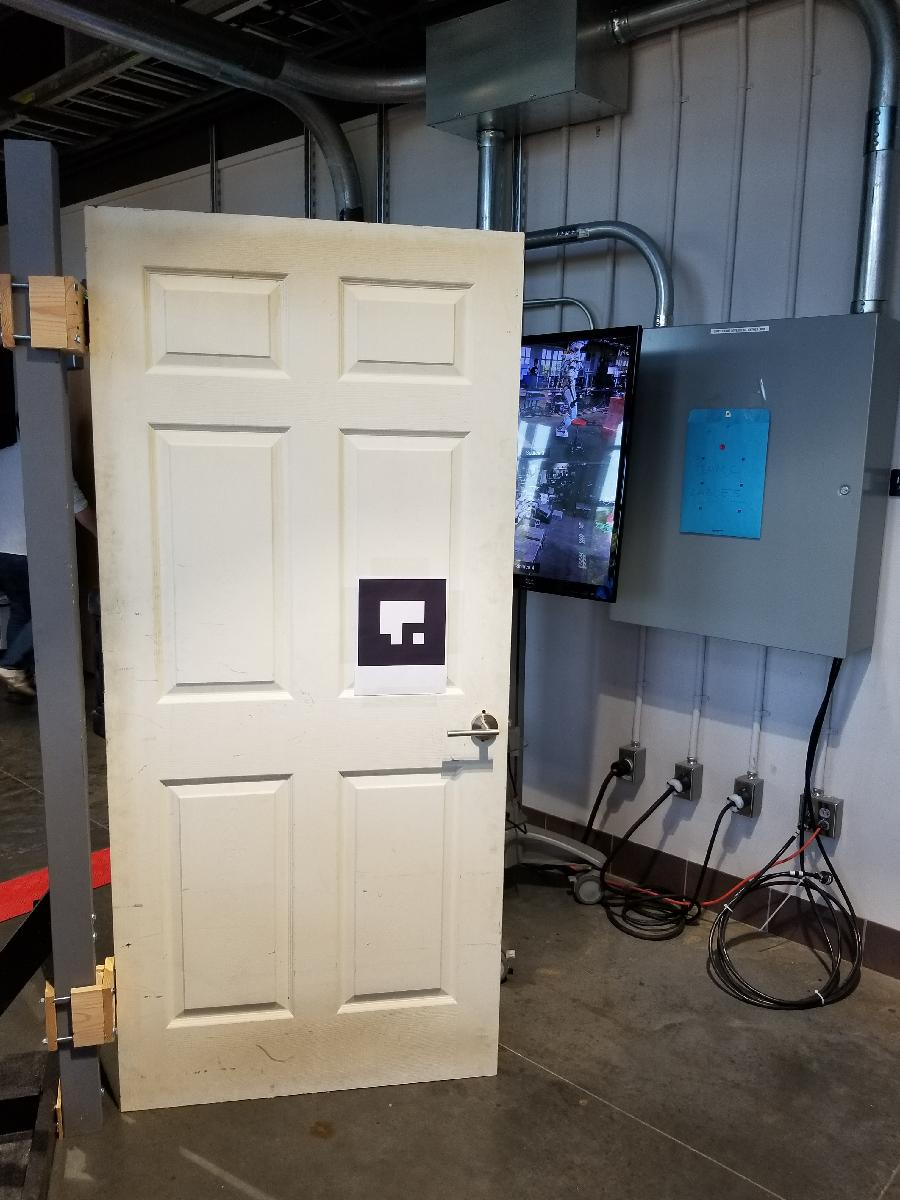door: (78, 196, 531, 1125)
doorHandle: (445, 702, 502, 750)
